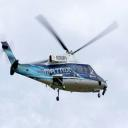helicopter: (1, 15, 120, 102)
